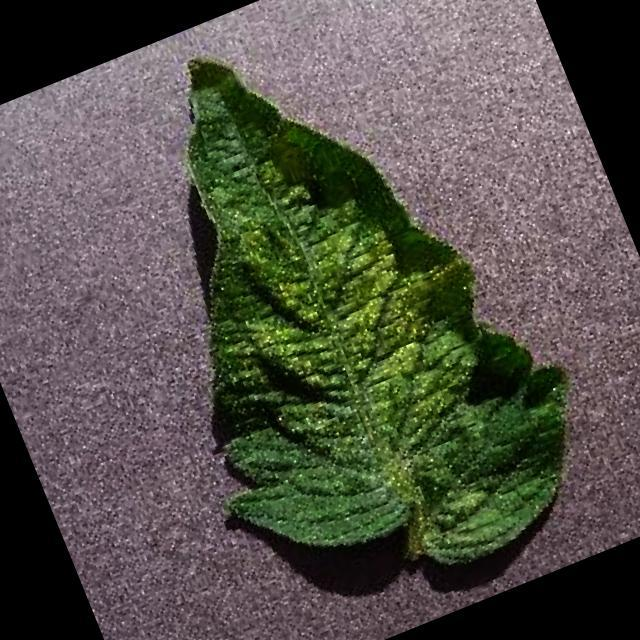Tomato spider mites leaf: (67, 0, 623, 640)
